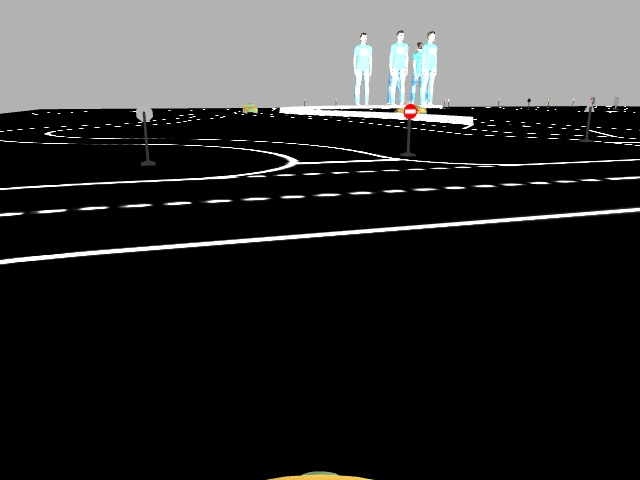NoEntry: (401, 103, 419, 119)
